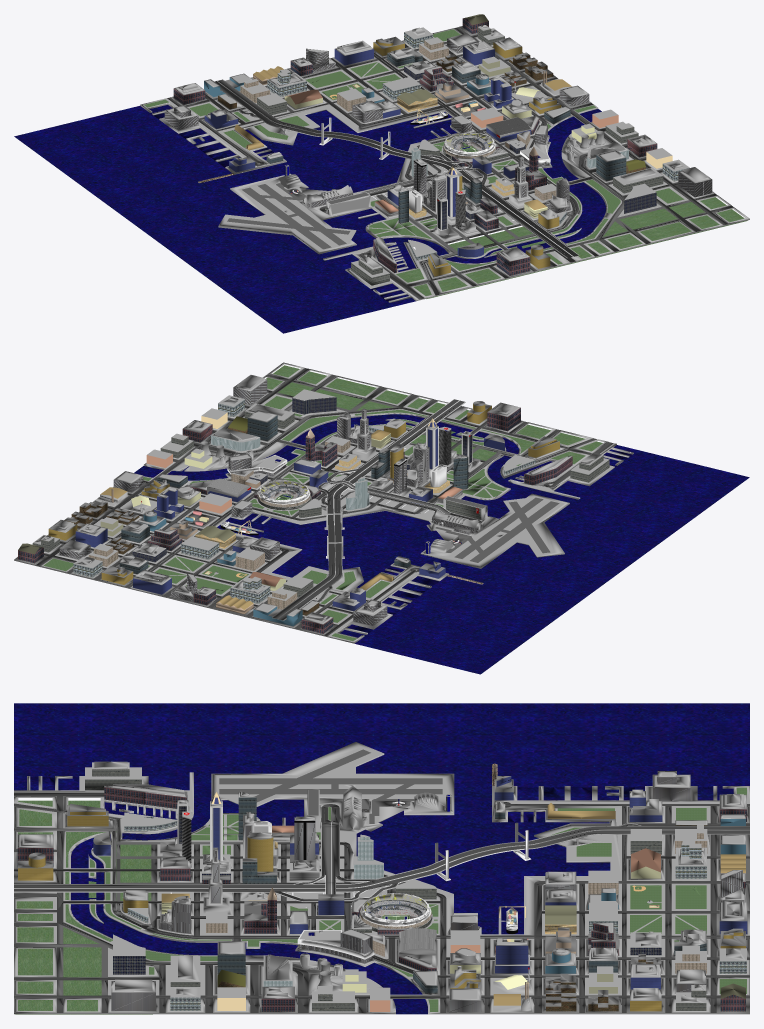
File: city.obj
The picture shows the model from 3 angles, top to bottom: view 1: azimuth 30°, elevation 25°; view 2: azimuth 150°, elevation 25°; view 3: azimuth 270°, elevation 25°; orthographic projection. The views are drawn at different scales.
Visible parts, largest first — view 1: Object02, Object09, Plane01, Object05; view 2: Object02, Object09, Plane01, Object05; view 3: Object02, Object09, Plane01, Object05.
Part boxes in pixels (x1,y1,x2,y2): Object02: (140, 14, 749, 302); Object09: (14, 105, 606, 333); Plane01: (396, 197, 747, 298); Object05: (443, 132, 499, 158); Object02: (14, 362, 633, 643); Object09: (134, 414, 749, 674); Plane01: (266, 365, 602, 465); Object05: (254, 480, 310, 510); Object02: (14, 742, 749, 1014); Object09: (14, 703, 749, 1014); Plane01: (15, 800, 152, 1014); Object05: (359, 893, 432, 934).
Size of the model in its own units: 2678 by 302 by 2678.
48 materials, 24 textured.
